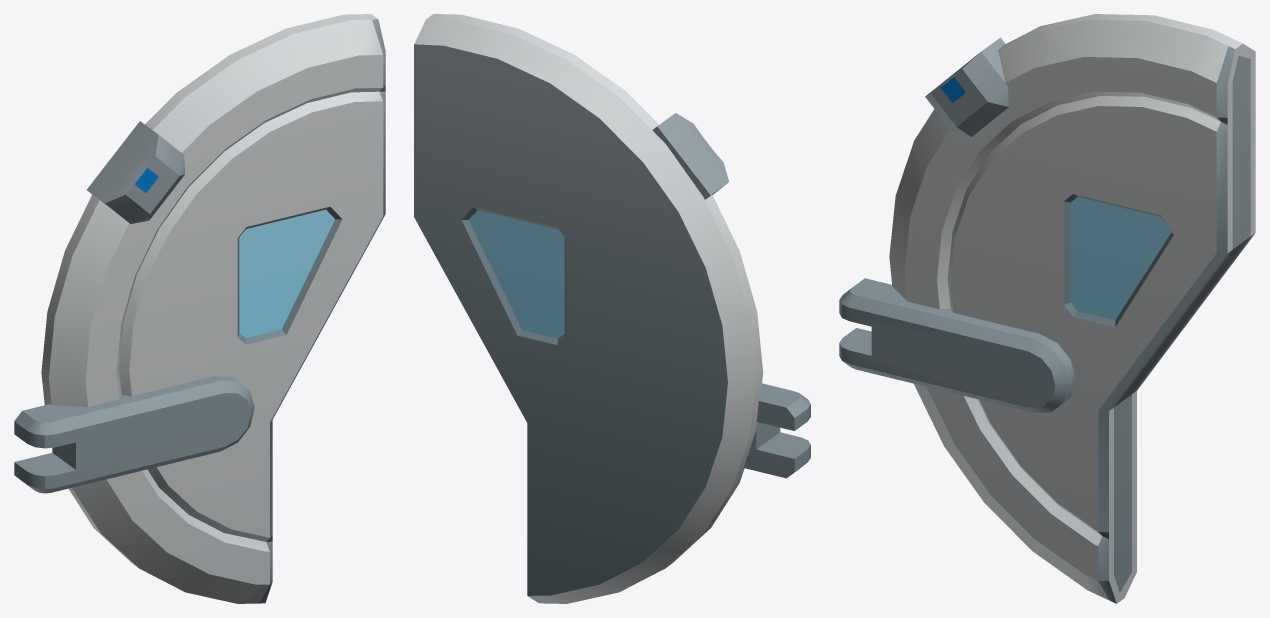
The model's file is Door_panel_010.fbx.
3 views of the same model, side by side, from view 1: azimuth 30°, elevation 25°; view 2: azimuth 150°, elevation 25°; view 3: azimuth 330°, elevation 25° (orthographic). The views are drawn at different scales.
Parts seen in each view (by area): view 1: Door_panel_010; view 2: Door_panel_010; view 3: Door_panel_010.
Part boxes in pixels (x1,y1,x2,y2): Door_panel_010: (14,14,385,603); Door_panel_010: (414,14,810,603); Door_panel_010: (839,14,1255,603).
Size of the model in its own units: 168 by 33.24 by 249.
